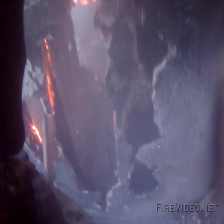fire_h: (44, 70, 56, 113)
fire_l: (29, 124, 42, 143), (43, 38, 49, 49), (47, 52, 50, 62), (80, 1, 87, 5), (73, 1, 77, 4)
